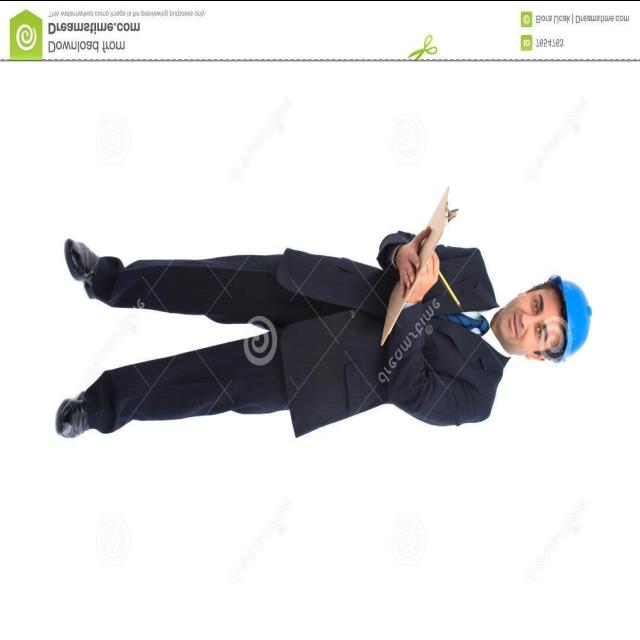helmet: (548, 265, 602, 370)
